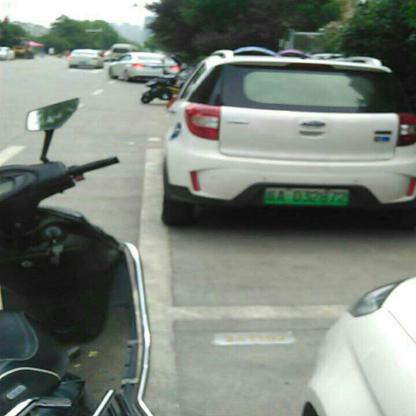lp: (264, 185, 350, 206)
